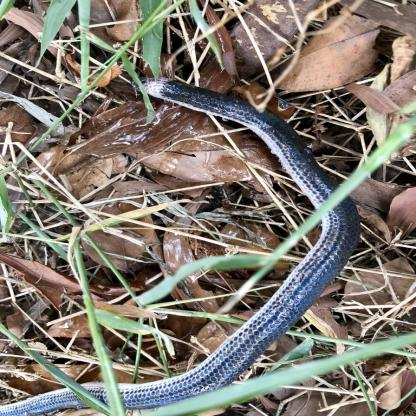Snake: (130, 69, 360, 402), (140, 73, 244, 121)
